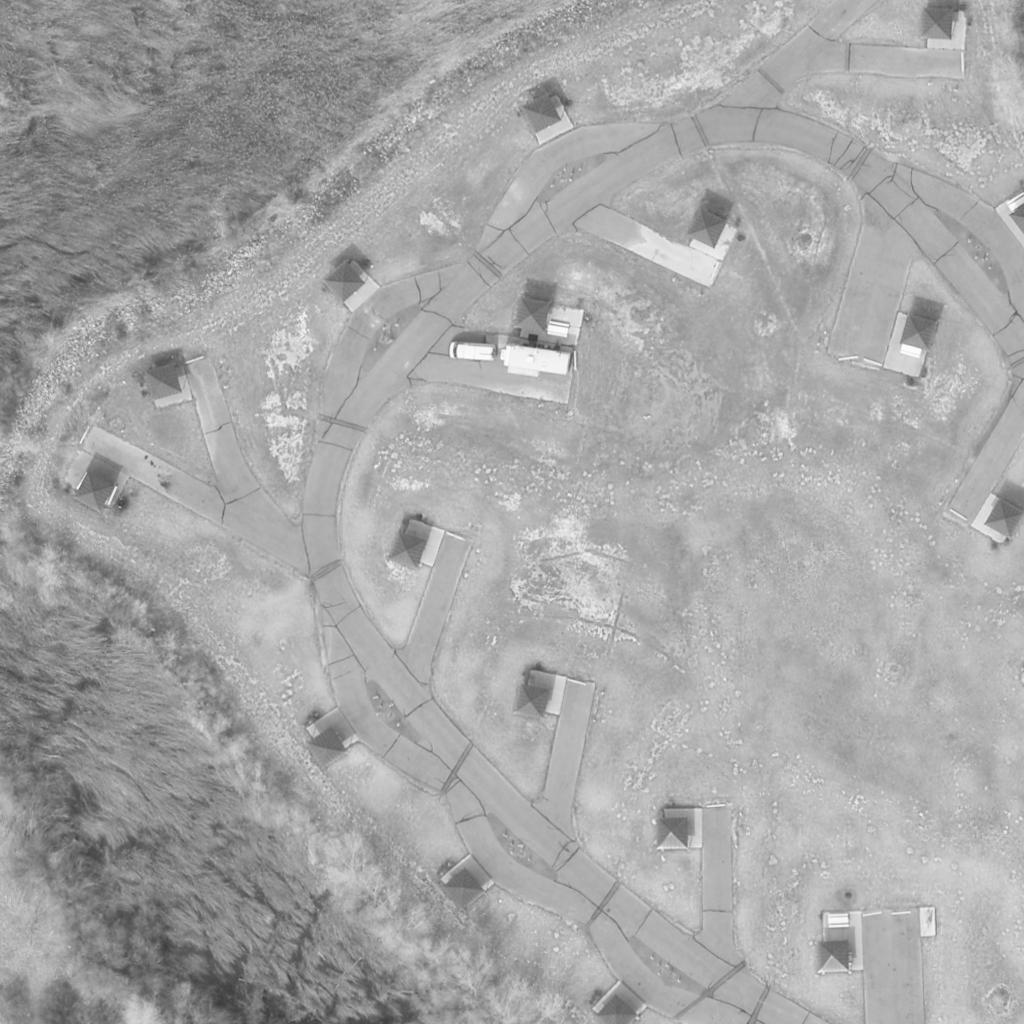vehicle: (501, 344, 573, 378), (449, 343, 497, 363)
